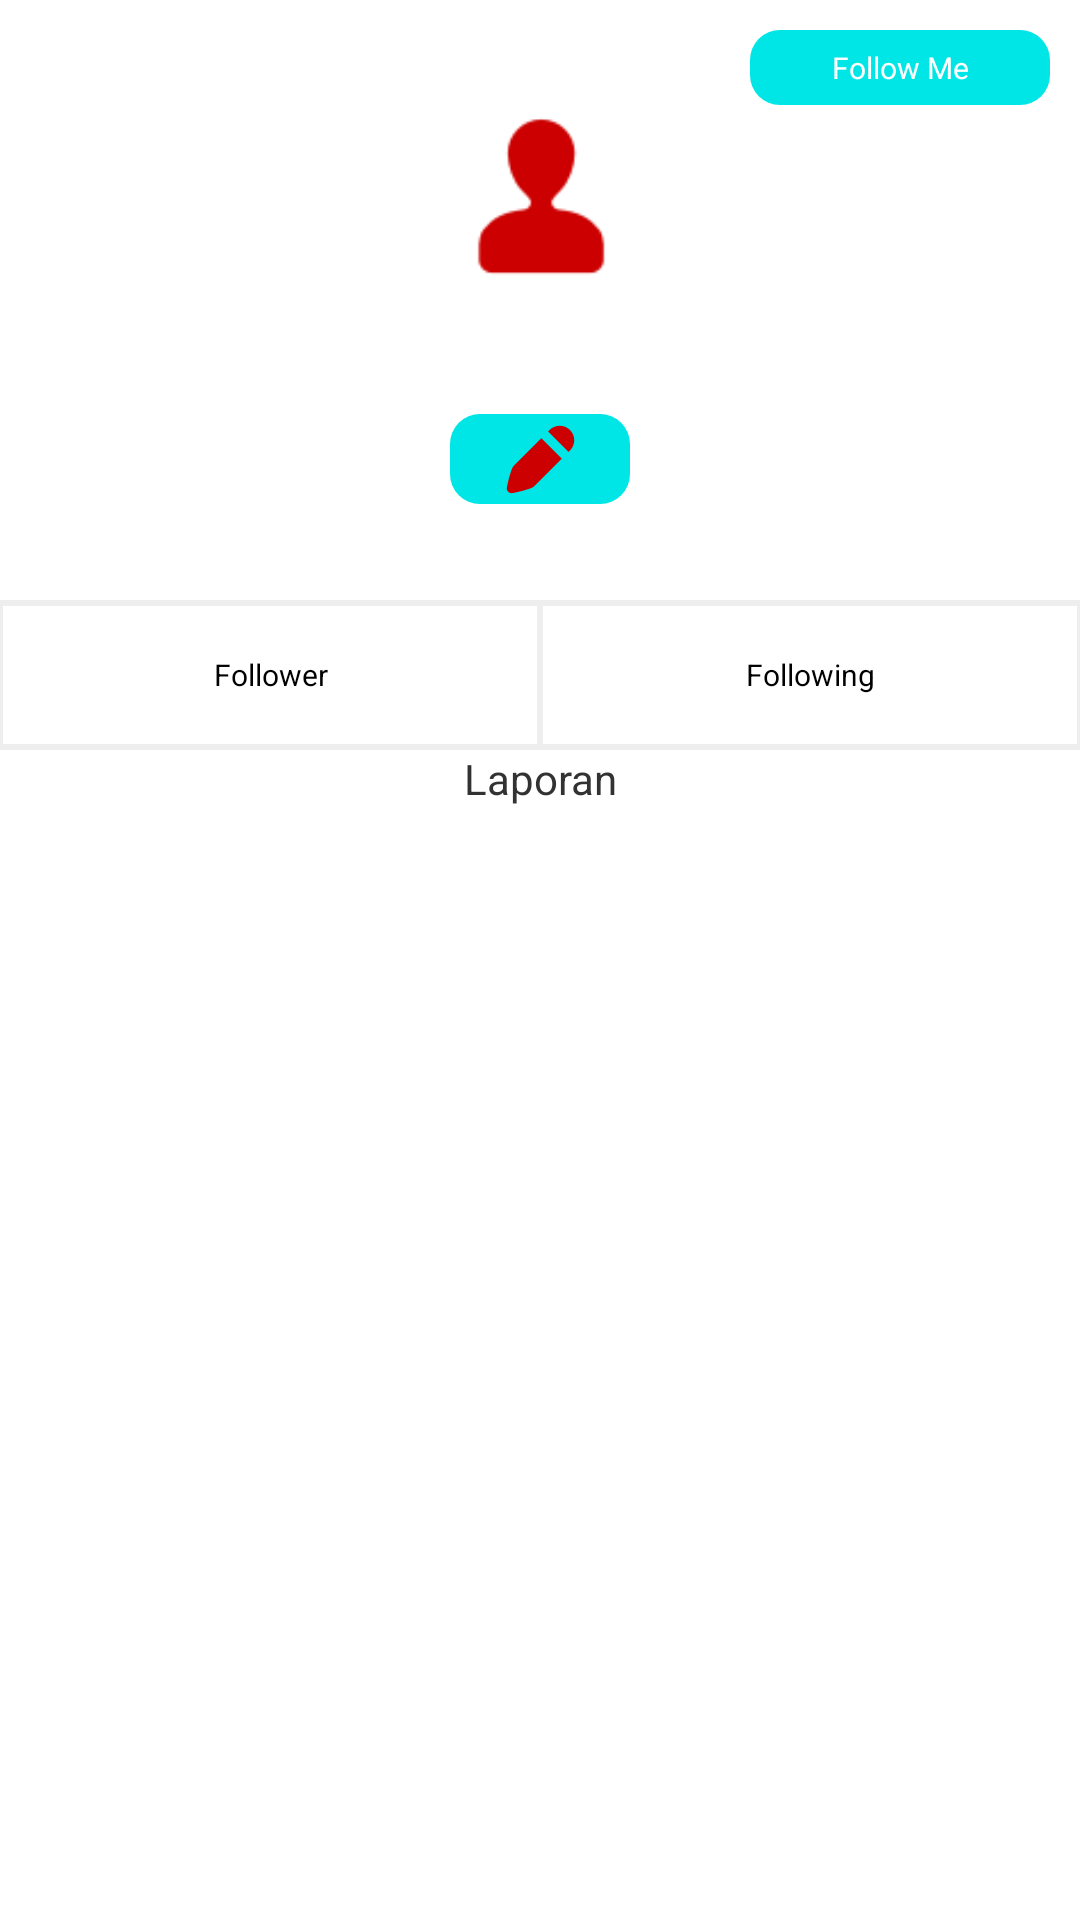

Where icons sit on this 1080 × 1920 app screen, as (x1=x1, y1=y1, x2=x2, y2=y2):
pencil: (x1=450, y1=414, x2=630, y2=504)
profile: (x1=478, y1=119, x2=605, y2=274)
